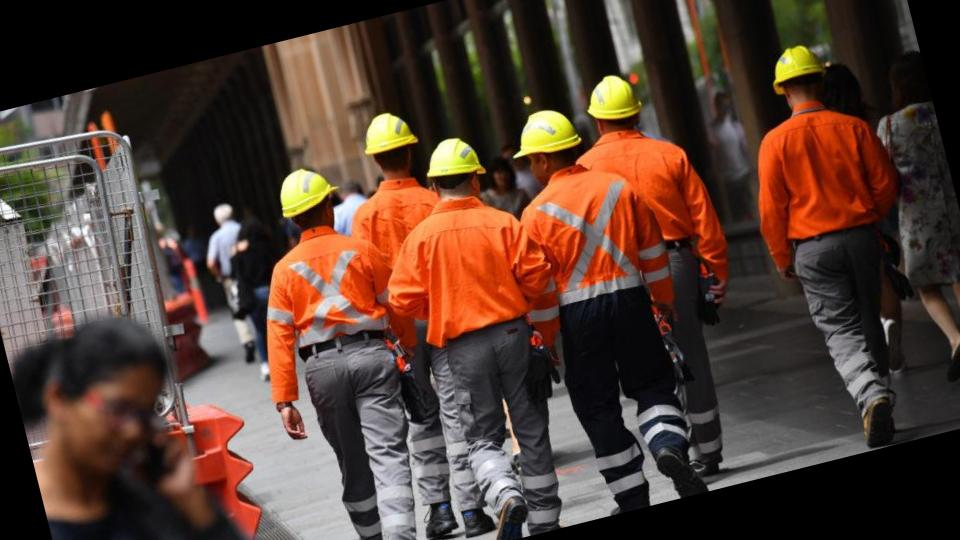Vest: (505, 139, 665, 324), (742, 92, 902, 264), (586, 113, 730, 285), (395, 188, 537, 355), (254, 219, 398, 373)
